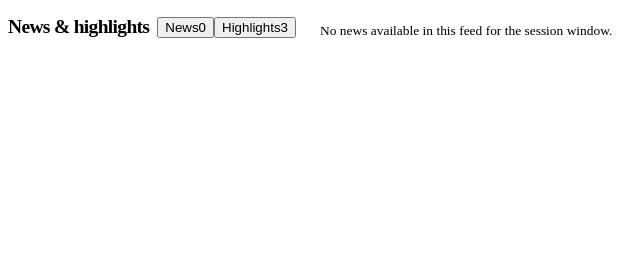
Test: typed highlight values and manual navigation work with only three rows (en)
Later steps or results of the test are not shown.
Click the tab "Highlights3".
click(255, 27)  # box [214, 16, 296, 38]
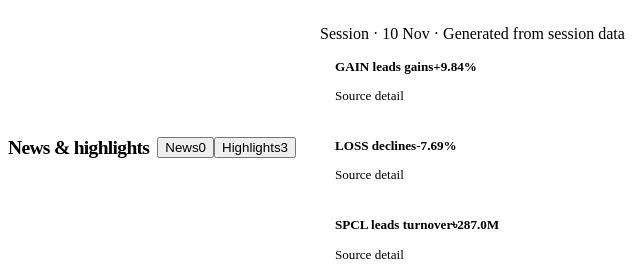
Expected: the text "+9.84%" is shown, [433, 59, 477, 74]
Expected: the text "-7.69%" is shown, [416, 138, 457, 153]
Expected: the text "৳287.0M" is shown, [452, 217, 499, 232]
